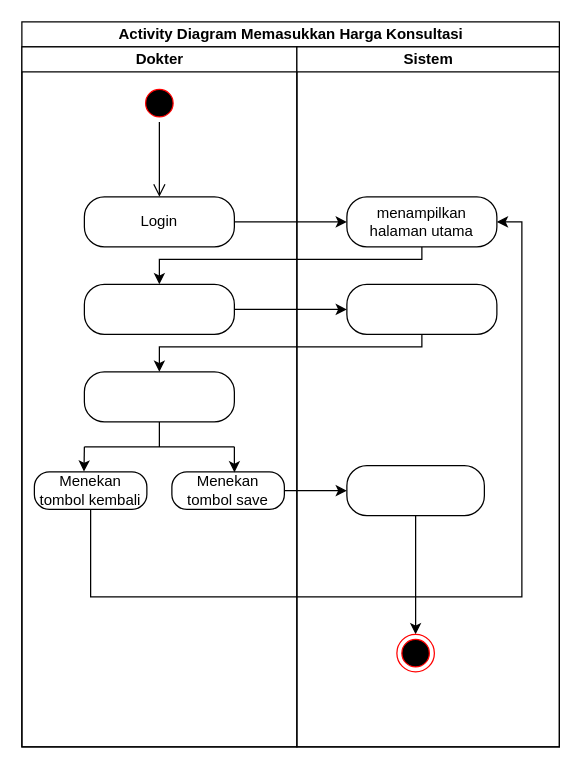
This 581x769 diagram has some shape labels left out. Each missing label, with the centre of its shape:
Melengkapi kolom harga konsultasi: the point at 158,396
Memilih Menu Profil: the point at 158,308
Menampilkan halaman profil: the point at 421,308
Menampilkan notif berhasil: the point at 415,490
